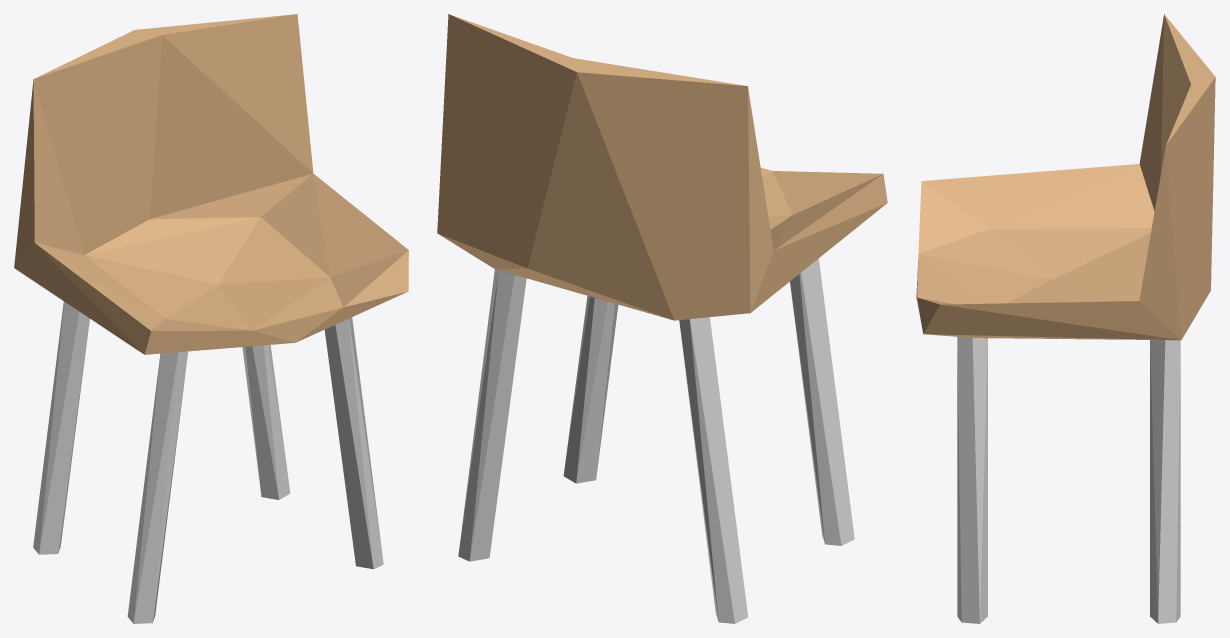
File: chaise_simple.fbx
The picture shows the model from 3 angles, left to right: view 1: azimuth 30°, elevation 25°; view 2: azimuth 150°, elevation 25°; view 3: azimuth 270°, elevation 25°; orthographic projection. The views are drawn at different scales.
Visible parts, largest first — view 1: Cube.024; view 2: Cube.024; view 3: Cube.024.
Part boxes in pixels (x1,y1,x2,y2): Cube.024: (14,14,408,623); Cube.024: (437,14,887,623); Cube.024: (916,14,1215,623).
Size of the model in its own units: 53.17 by 86.43 by 48.47.
